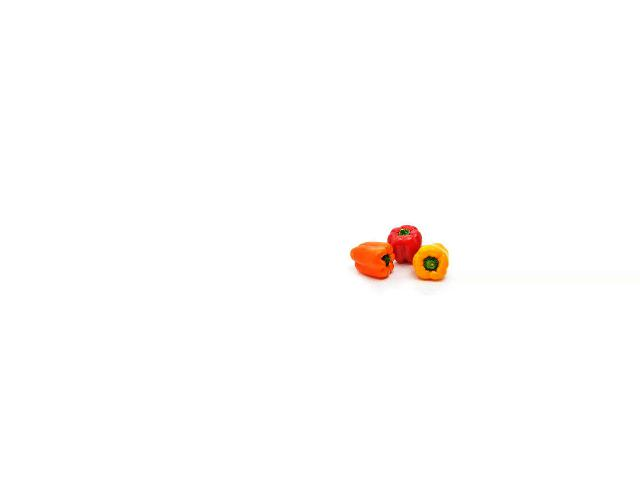bell_pepper: (407, 241, 451, 281)
